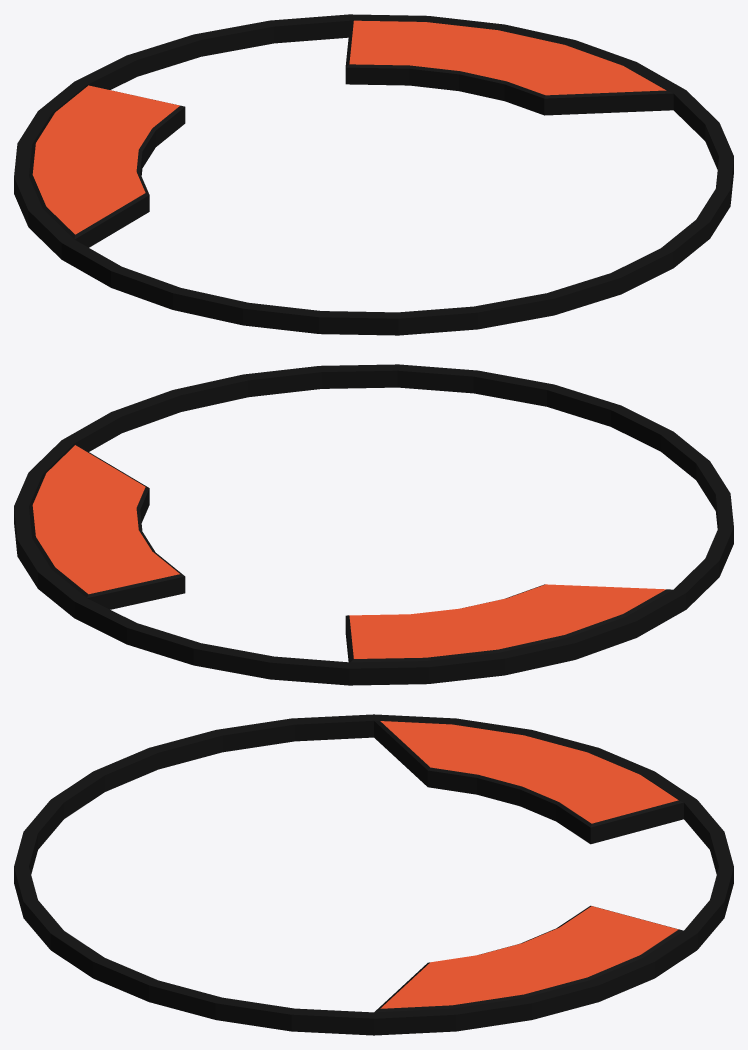
The model's file is CircleWalls.FBX.
3 renders of one model, top to bottom at view 1: azimuth 30°, elevation 25°; view 2: azimuth 150°, elevation 25°; view 3: azimuth 270°, elevation 25°, orthographic.
Visible parts, largest first — view 1: CircleMapWalls; view 2: CircleMapWalls; view 3: CircleMapWalls.
Boxes of the visible parts, bbox=[...] form: CircleMapWalls: bbox=[14, 14, 733, 335]; CircleMapWalls: bbox=[14, 364, 733, 685]; CircleMapWalls: bbox=[14, 714, 733, 1035].
Size of the model in its own units: 284 by 8.04 by 284.
